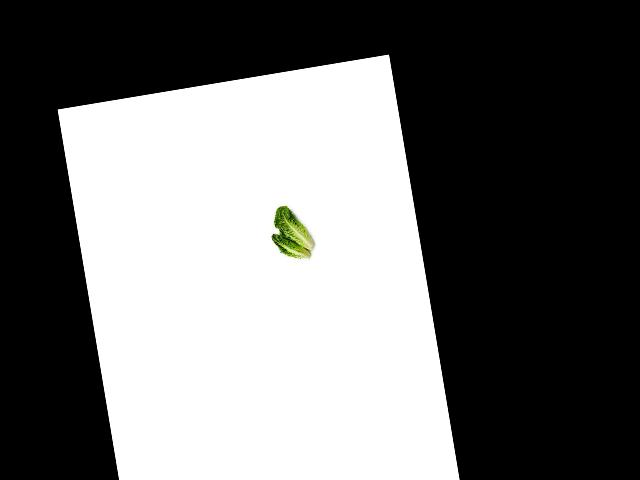lettuce: (270, 201, 317, 252)
